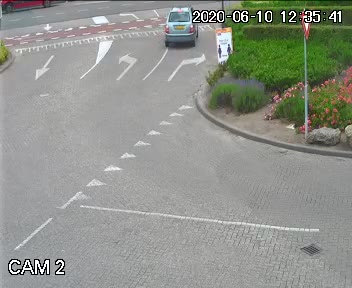car: (156, 5, 201, 51)
